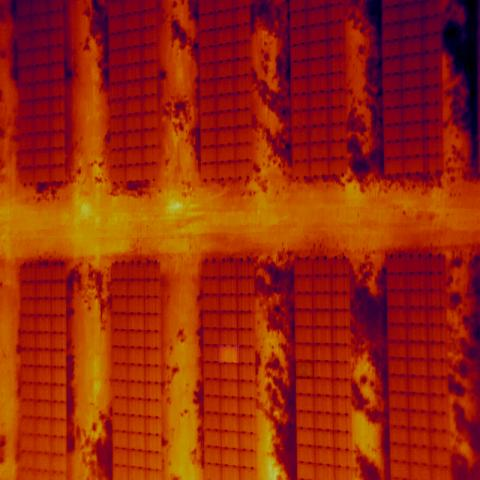fault: (219, 345, 239, 363), (295, 361, 314, 379)
